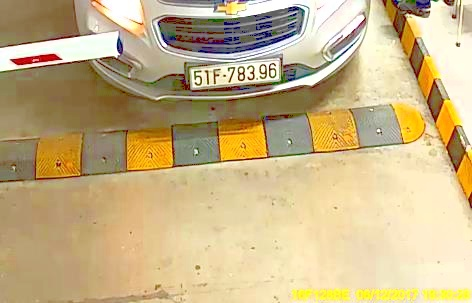plate: (186, 54, 282, 91)
